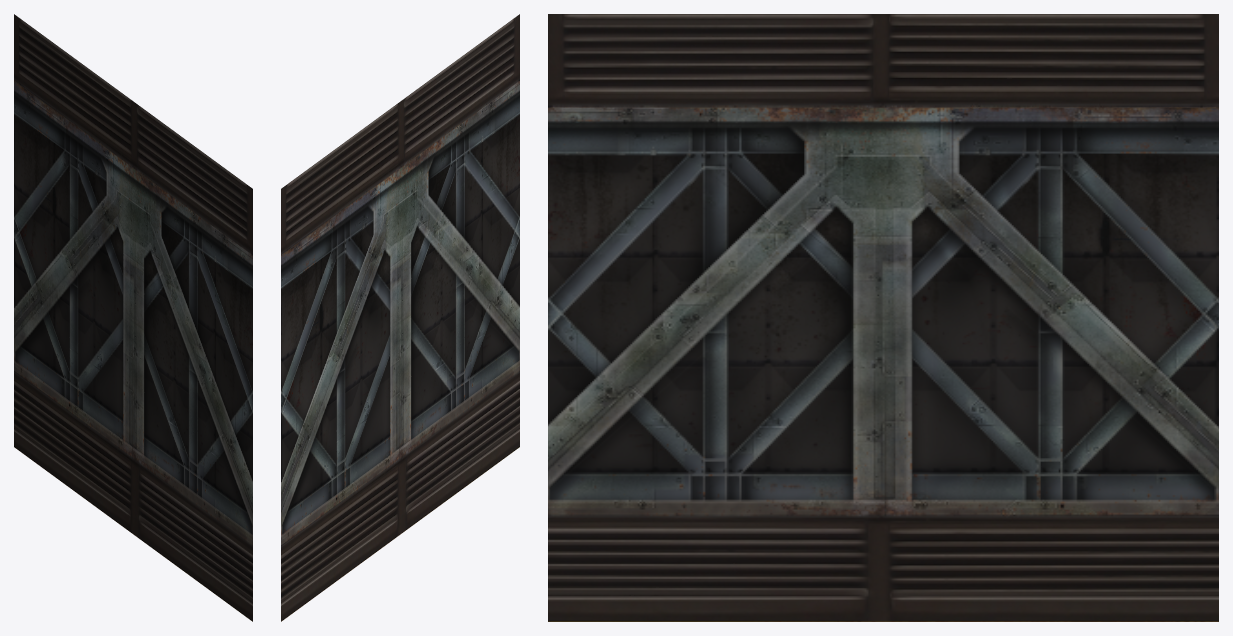
The model's file is Wall_A_Short2mts_06.fbx.
3 renders of one model, left to right at view 1: azimuth 30°, elevation 25°; view 2: azimuth 150°, elevation 25°; view 3: azimuth 270°, elevation 25°, orthographic. The views are drawn at different scales.
Visible parts, largest first — view 1: Wall_A_Short2mts_06; view 2: Wall_A_Short2mts_06; view 3: Wall_A_Short2mts_06.
Boxes of the visible parts, bbox=[...] form: Wall_A_Short2mts_06: bbox=[14, 14, 252, 621]; Wall_A_Short2mts_06: bbox=[281, 14, 519, 621]; Wall_A_Short2mts_06: bbox=[548, 14, 1218, 621].
Bounding box in the file's own units: 0.00029 × 200 × 200.
Materials: 1 (1 with a texture image).
